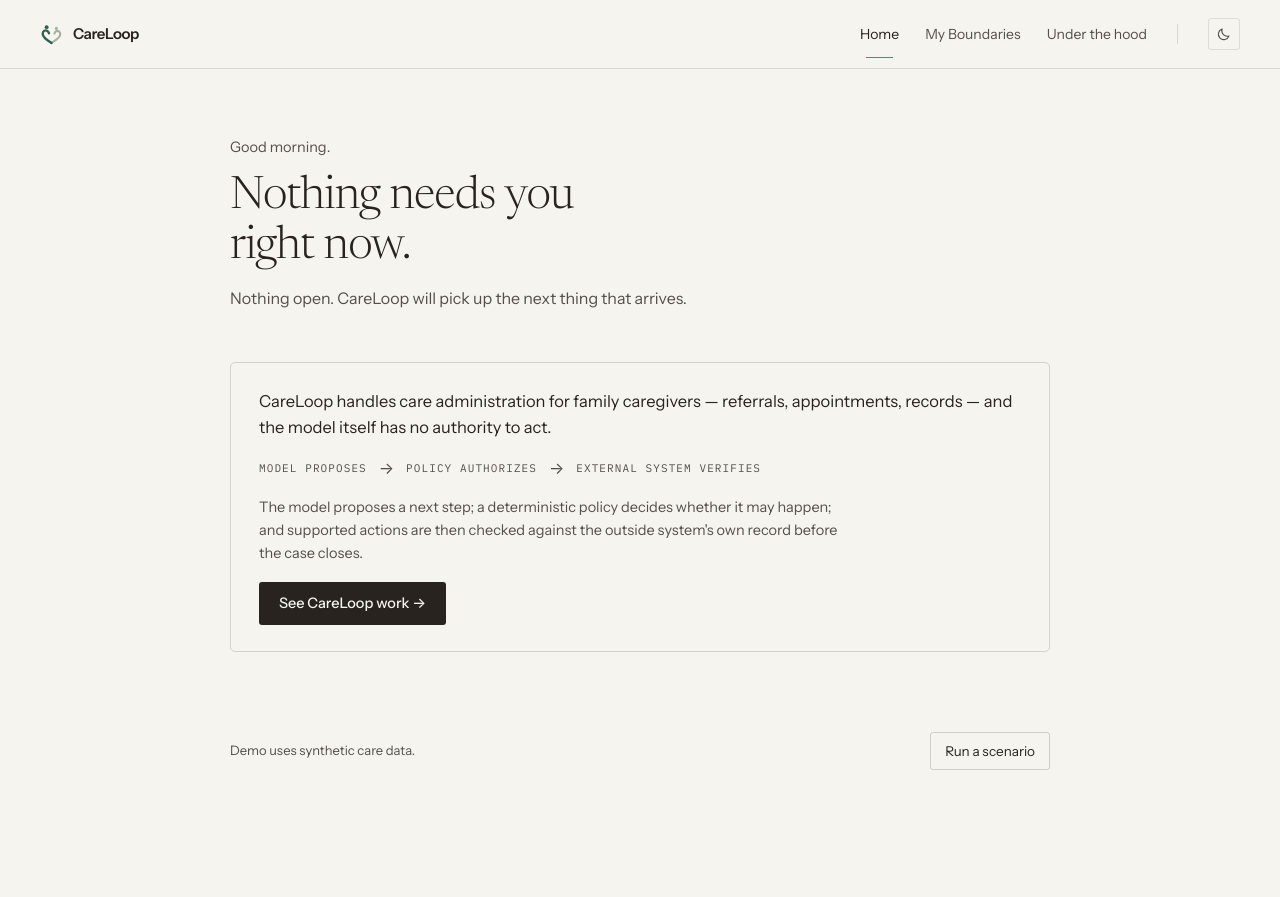
Scenario: under the hood names the real primitives › annotates the agent path and lists the stack
Click the button "Under the hood": (1097, 34) [1047,20,1147,48]
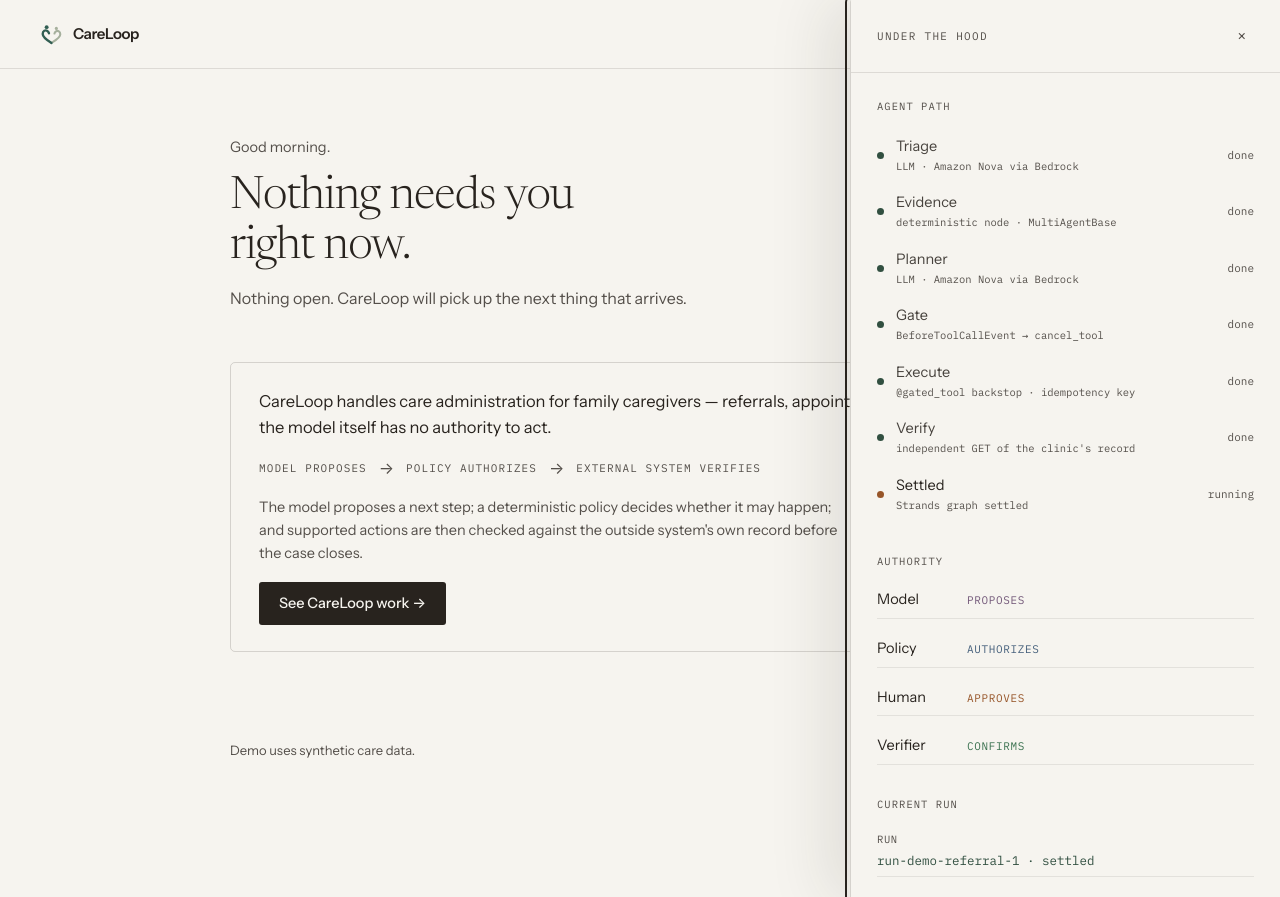
Result: the dialog "UNDER THE HOOD" shows "BeforeToolCallEvent → cancel_tool" at [896,328,1104,342]
Result: the dialog "UNDER THE HOOD" shows "Amazon Nova via Bedrock" at [896,158,1079,172]
Result: the dialog "UNDER THE HOOD" shows "@gated_tool" at [896,384,1135,398]
